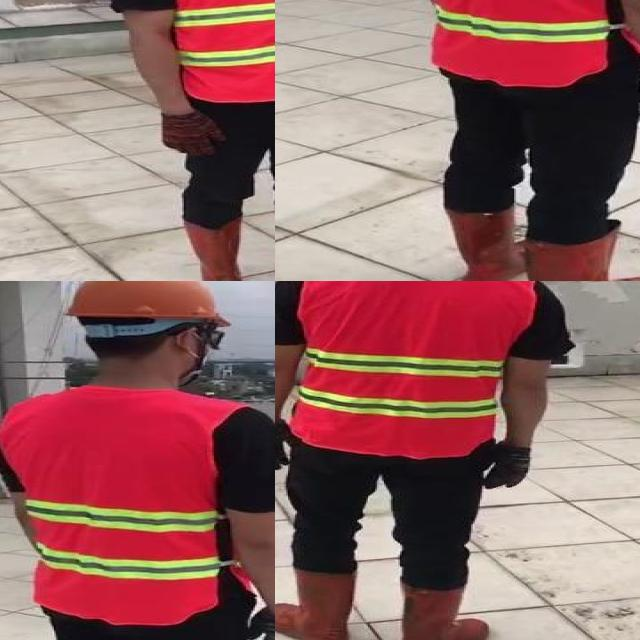boots: (442, 206, 526, 281), (522, 228, 640, 281), (275, 567, 357, 640), (394, 582, 492, 640), (182, 222, 264, 281)
hand_glove: (157, 109, 223, 154), (484, 446, 530, 489), (275, 426, 300, 469), (244, 609, 275, 640)
head_helmet: (63, 281, 227, 324)
person: (275, 281, 577, 640), (0, 281, 275, 640), (385, 0, 640, 281), (104, 0, 275, 281)
vest: (0, 387, 253, 626), (296, 281, 531, 454), (398, 0, 625, 88), (169, 0, 275, 102)
